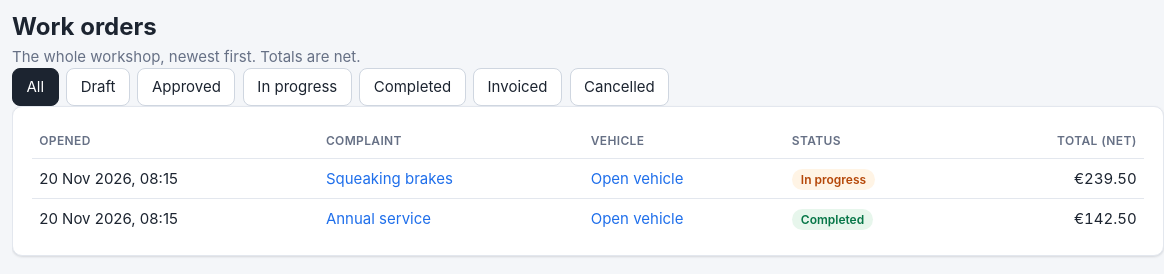
Test: WorkOrdersPage › filters by status and remembers the filter in the address
Expected: the link "Squeaking brakes" is shown, [326,168,453,188]
Click the button "Completed".
click(412, 87)  # box [359,68,466,106]
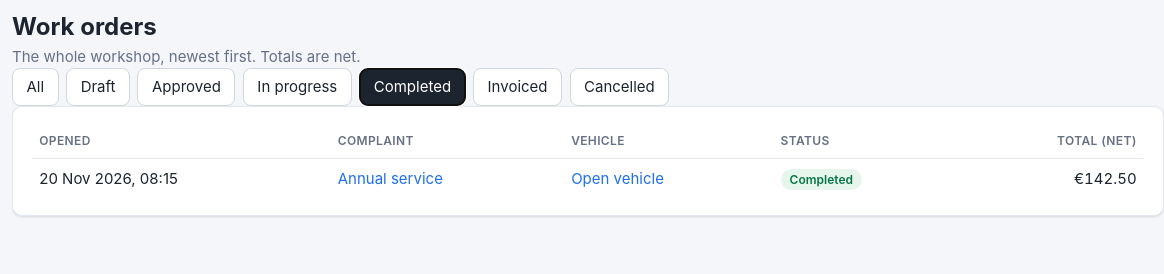
Expected: the text "Completed" is shown, [781,169,862,190]
Expected: the link "Squeaking brakes" is gone
